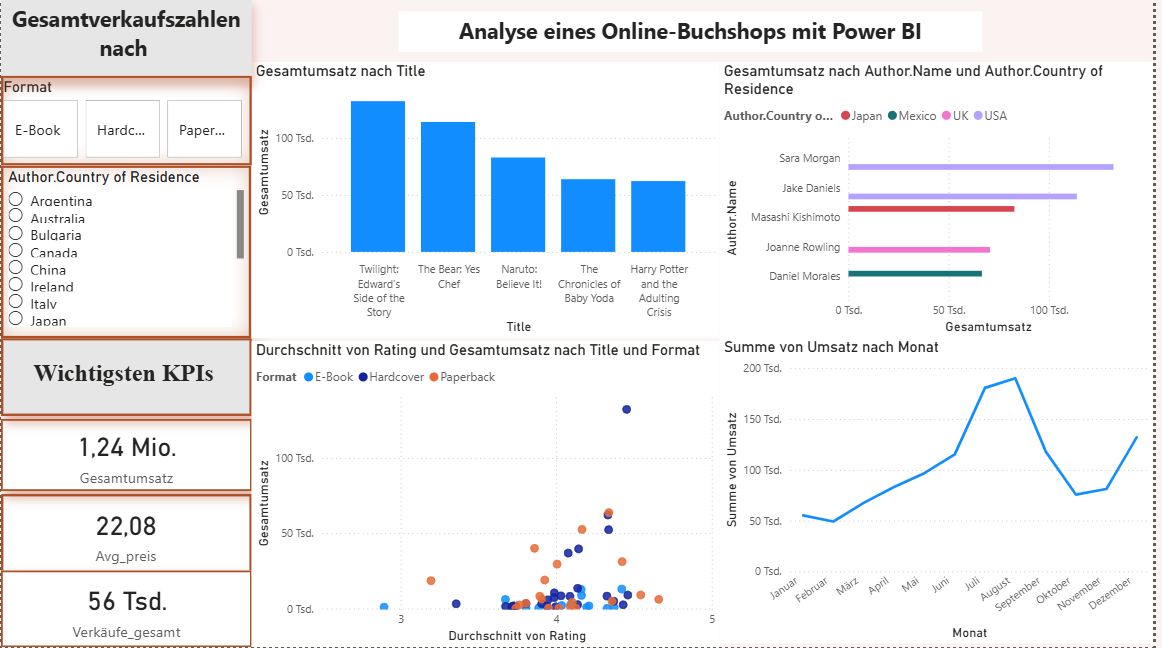

The dashboard page shown, as its layout file describes it:
{"tool":"powerbi","page":{"name":"Dashboard","canvas":[1280,720],"ordinal":0},"visuals":[{"type":"card","fields":{"Values":["Meassures.Avg_preis"]},"box":[0,550,278.3,88.3],"z":0},{"type":"card","fields":{"Values":["Meassures.Gesamtumsatz"]},"box":[0,466.7,278.3,80],"z":1},{"type":"card","fields":{"Values":["Meassures.Verkäufe_gesamt"]},"box":[0,635,278.3,85],"z":2},{"type":"textbox","box":[0,376.7,278.3,86.7],"z":3},{"type":"lineChart","fields":{"Y":["Sum(Sales.Umsatz)"],"Category":["Sales.Sale Date.Variation.Datumshierarchie.Monat"]},"box":[798.3,376.7,481.7,340],"z":4},{"type":"columnChart","fields":{"Category":["Book.Title"],"Y":["Meassures.Gesamtumsatz"]},"box":[278.3,70,520,306.7],"z":5},{"type":"scatterChart","fields":{"Category":["Book.Title"],"X":["Avg(Ratings.Rating)"],"Y":["Meassures.Gesamtumsatz"],"Series":["Edition.Format"]},"box":[278.3,380,520,340],"z":6},{"type":"clusteredBarChart","fields":{"Category":["Book.Author.Name"],"Y":["Meassures.Gesamtumsatz"],"Series":["Book.Author.Country of Residence"]},"box":[798.3,70,481.7,306.7],"z":7},{"type":"advancedSlicerVisual","fields":{"Values":["Edition.Format"]},"box":[0,85,278.3,100],"z":8},{"type":"listSlicer","fields":{"Values":["Book.Author.Country of Residence"]},"box":[0,185,278,192],"z":9},{"type":"textbox","box":[0,0,278.3,85],"z":10},{"type":"textbox","box":[441.7,13.3,648.3,45],"z":11}]}

Visuals, with their boxes in screenshot pixels (x1, y1, x2, y2), scaled from the page's 1280x720 canvas onto the 1162x648 screenshot:
card - Meassures.Avg_preis: <box>0,495,253,574</box>
card - Meassures.Gesamtumsatz: <box>0,420,253,492</box>
card - Meassures.Verkäufe_gesamt: <box>0,572,253,647</box>
textbox: <box>0,339,253,417</box>
lineChart - Sum(Sales.Umsatz) x Sales.Sale Date.Variation.Datumshierarchie.Monat: <box>725,339,1161,645</box>
columnChart - Book.Title x Meassures.Gesamtumsatz: <box>253,63,725,339</box>
scatterChart - Book.Title x Avg(Ratings.Rating): <box>253,342,725,647</box>
clusteredBarChart - Book.Author.Name x Meassures.Gesamtumsatz: <box>725,63,1161,339</box>
advancedSlicerVisual - Edition.Format: <box>0,76,253,166</box>
listSlicer - Book.Author.Country of Residence: <box>0,166,252,339</box>
textbox: <box>0,0,253,76</box>
textbox: <box>401,12,990,52</box>
